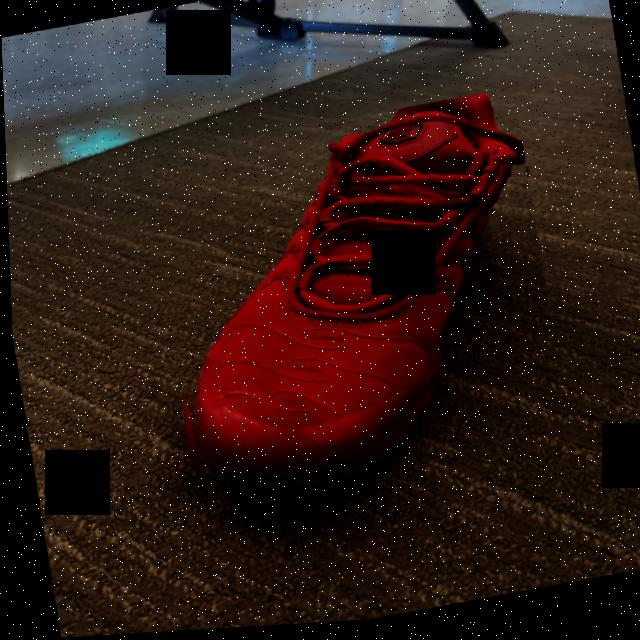shoe: (133, 92, 569, 522)
